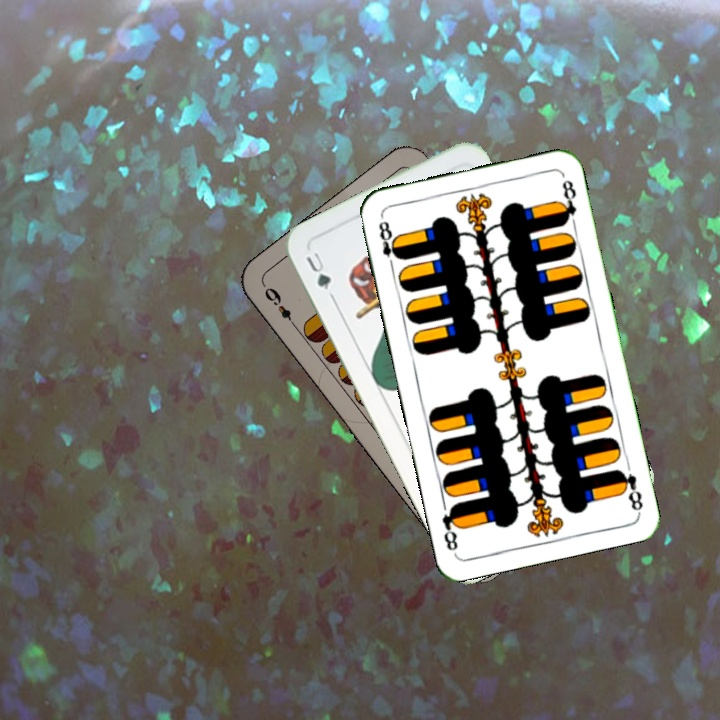E8: (613, 465, 646, 515), (375, 217, 404, 272)
E9: (260, 283, 300, 332)
GU: (301, 248, 334, 293)
